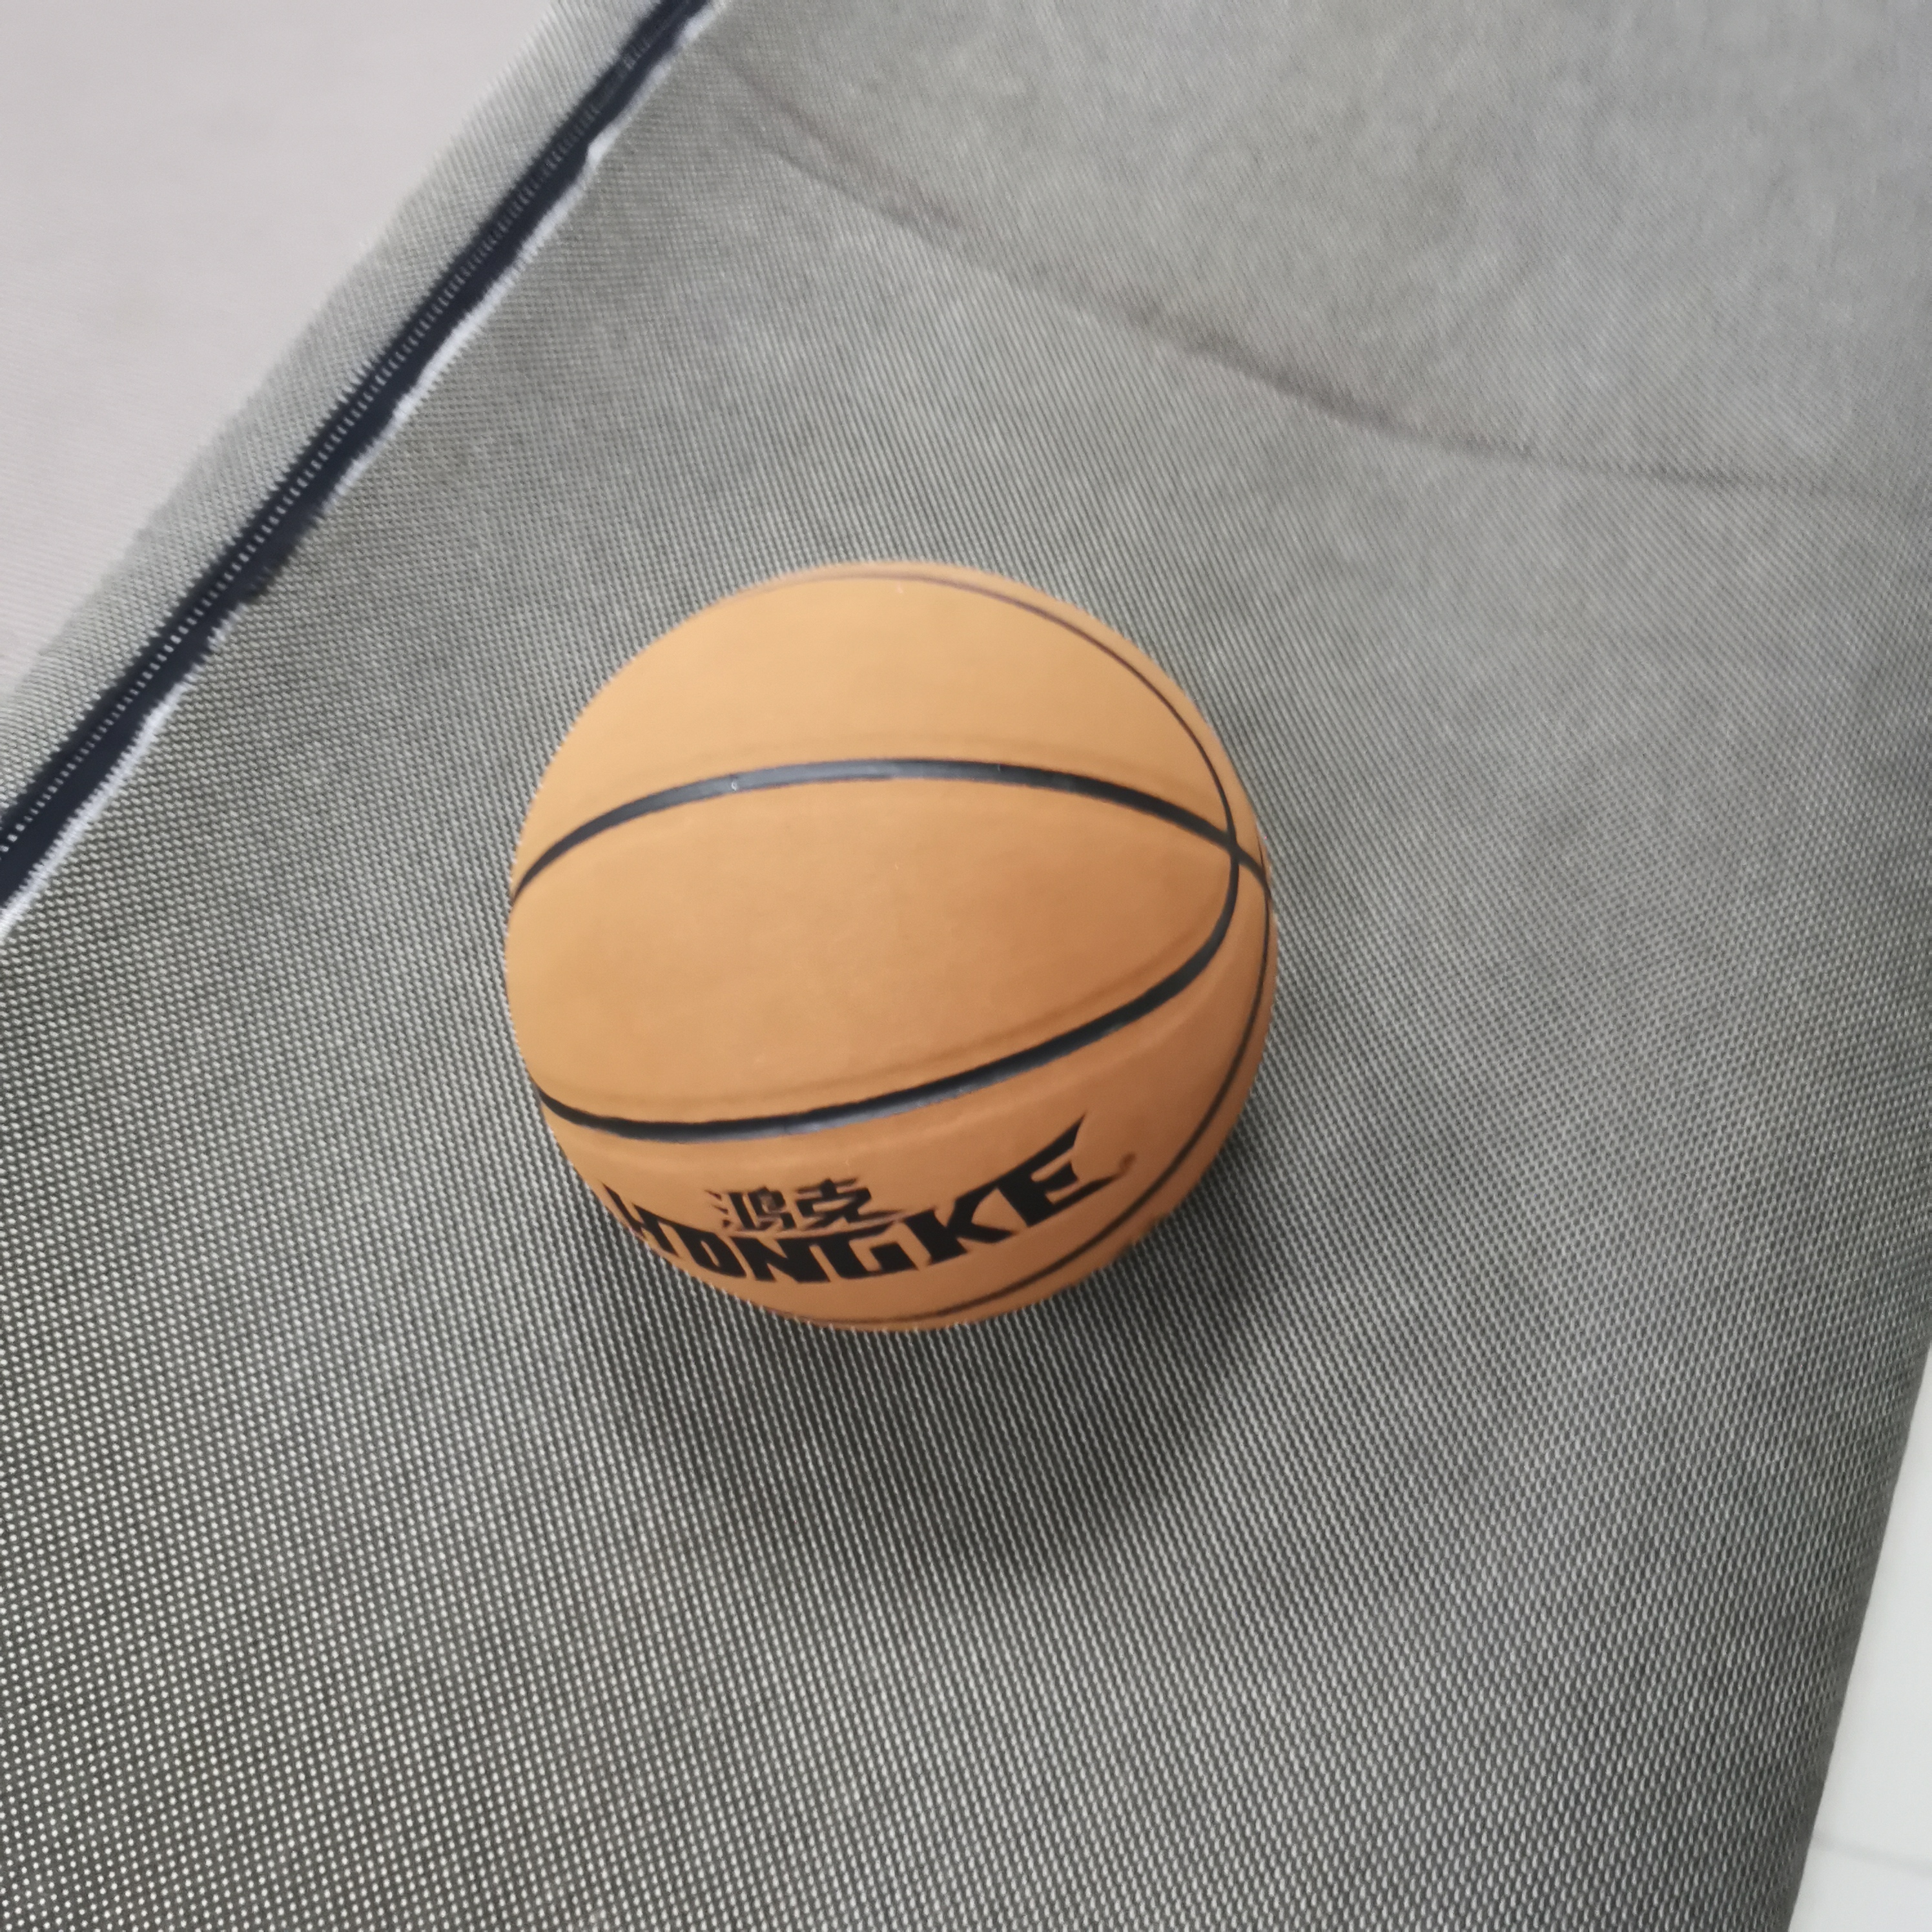basketball: (495, 557, 1277, 1329)
